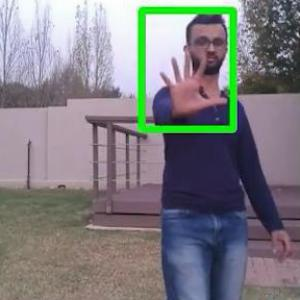follow_hand: (152, 39, 229, 118)
